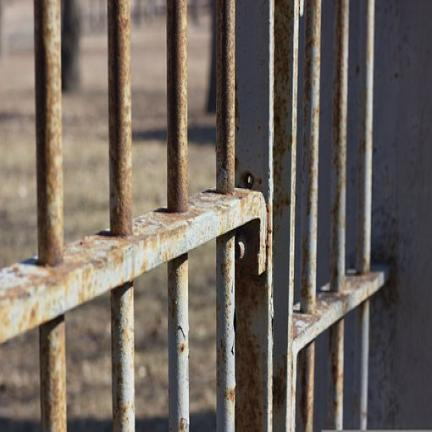karat: (272, 0, 299, 430), (34, 0, 64, 266), (108, 0, 132, 236), (167, 0, 188, 213), (217, 234, 236, 430)
